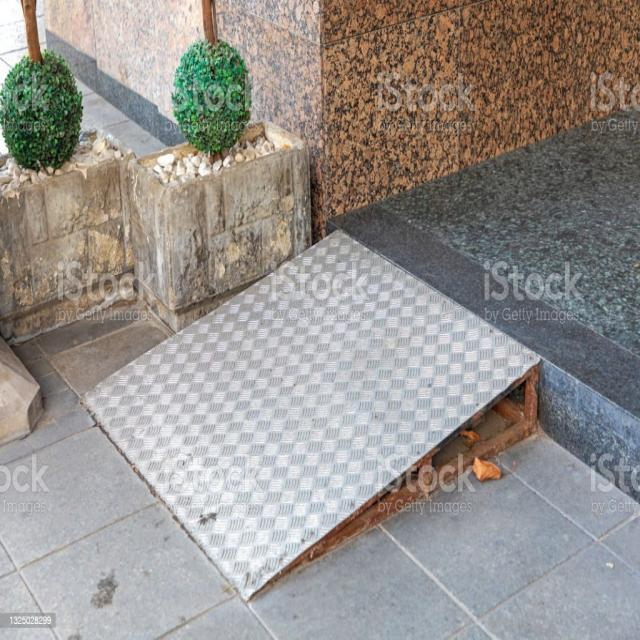CLIMB: (80, 230, 544, 600)
